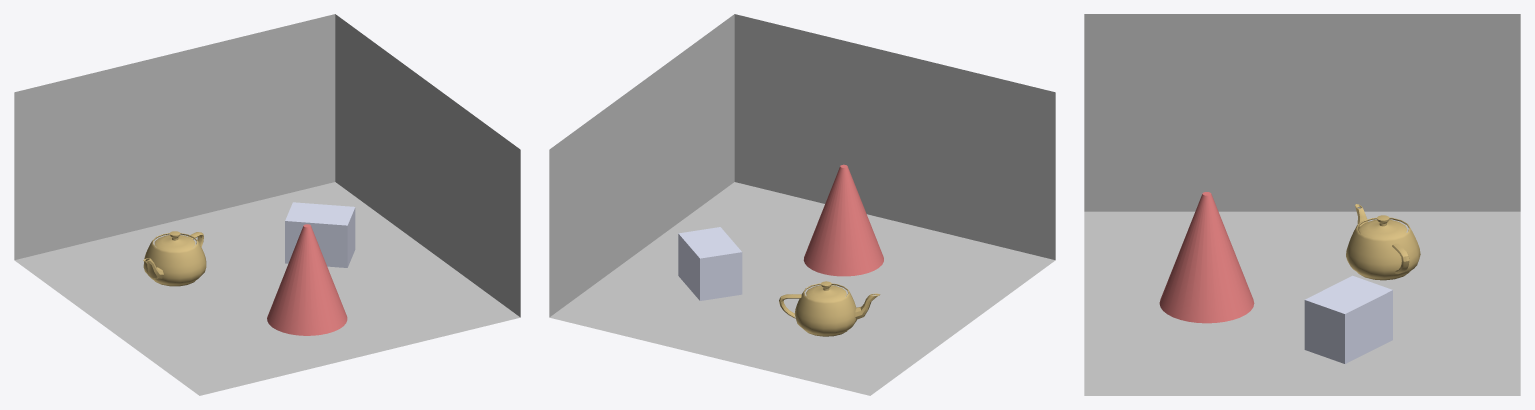
File: luces.gltf
The picture shows the model from 3 angles, left to right: view 1: azimuth 30°, elevation 25°; view 2: azimuth 150°, elevation 25°; view 3: azimuth 270°, elevation 25°; orthographic projection. The views are drawn at different scales.
Visible parts, largest first — view 1: Mesh001, Cone001, Box001, tetera; view 2: Mesh001, Cone001, Box001, tetera; view 3: Mesh001, Cone001, Box001, tetera.
Boxes of the visible parts, bbox=[...] form: Mesh001: bbox=[14, 14, 520, 395]; Cone001: bbox=[267, 224, 347, 335]; Box001: bbox=[285, 202, 355, 267]; tetera: bbox=[143, 231, 206, 286]; Mesh001: bbox=[549, 14, 1055, 395]; Cone001: bbox=[803, 164, 883, 276]; Box001: bbox=[678, 227, 742, 300]; tetera: bbox=[779, 281, 880, 336]; Mesh001: bbox=[1084, 14, 1520, 395]; Cone001: bbox=[1159, 192, 1254, 323]; Box001: bbox=[1304, 275, 1392, 363]; tetera: bbox=[1346, 204, 1420, 280].
Size of the model in its own units: 100 by 50 by 100.
